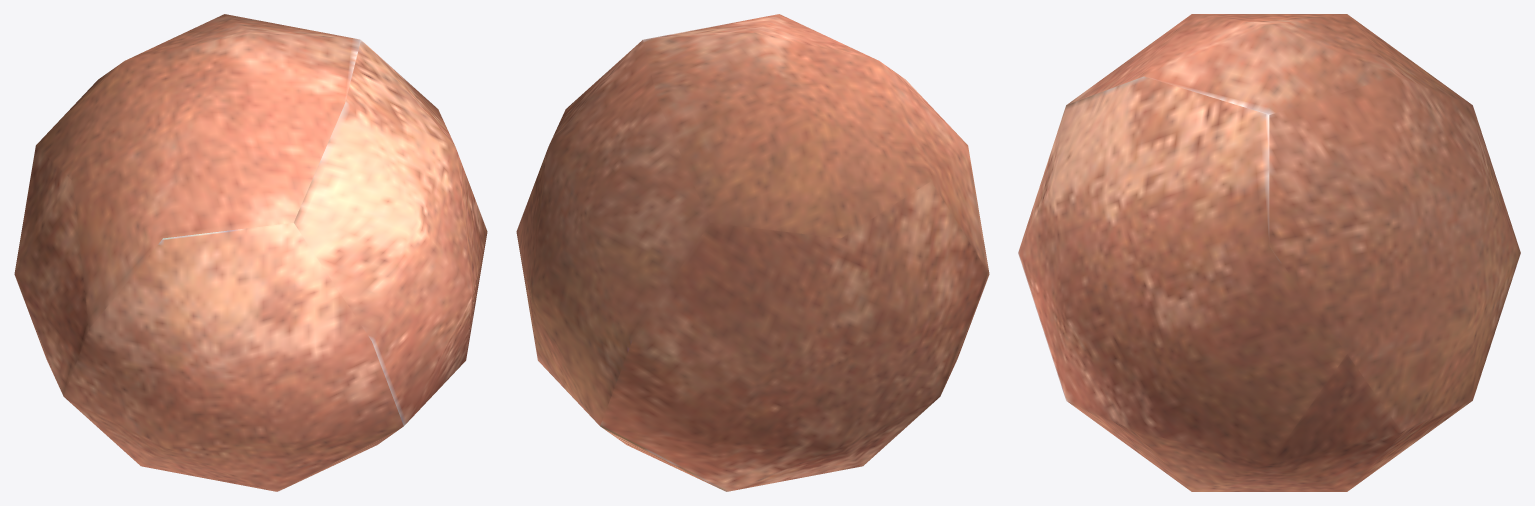
The model's file is RedPlanet.glb.
The picture shows the model from 3 angles, left to right: view 1: azimuth 30°, elevation 25°; view 2: azimuth 150°, elevation 25°; view 3: azimuth 270°, elevation 25°; orthographic projection. The views are drawn at different scales.
Parts seen in each view (by area): view 1: 棱角球.007; view 2: 棱角球.007; view 3: 棱角球.007.
Boxes of the visible parts, left/top/right/bottom form: 棱角球.007: left=14, top=14, right=487, bottom=491; 棱角球.007: left=516, top=14, right=989, bottom=491; 棱角球.007: left=1018, top=14, right=1520, bottom=491.
Size of what is drawn, in the model's own units: 4.13 by 4.34 by 4.34.
1 material, 1 textured.
